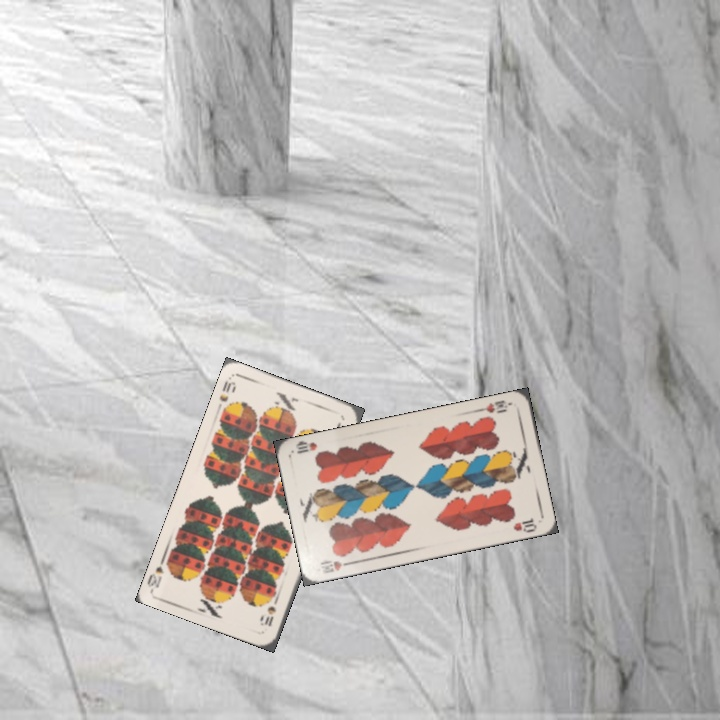H10: (474, 396, 515, 416), (316, 556, 356, 576)
S10: (258, 593, 281, 629), (215, 377, 238, 404)
